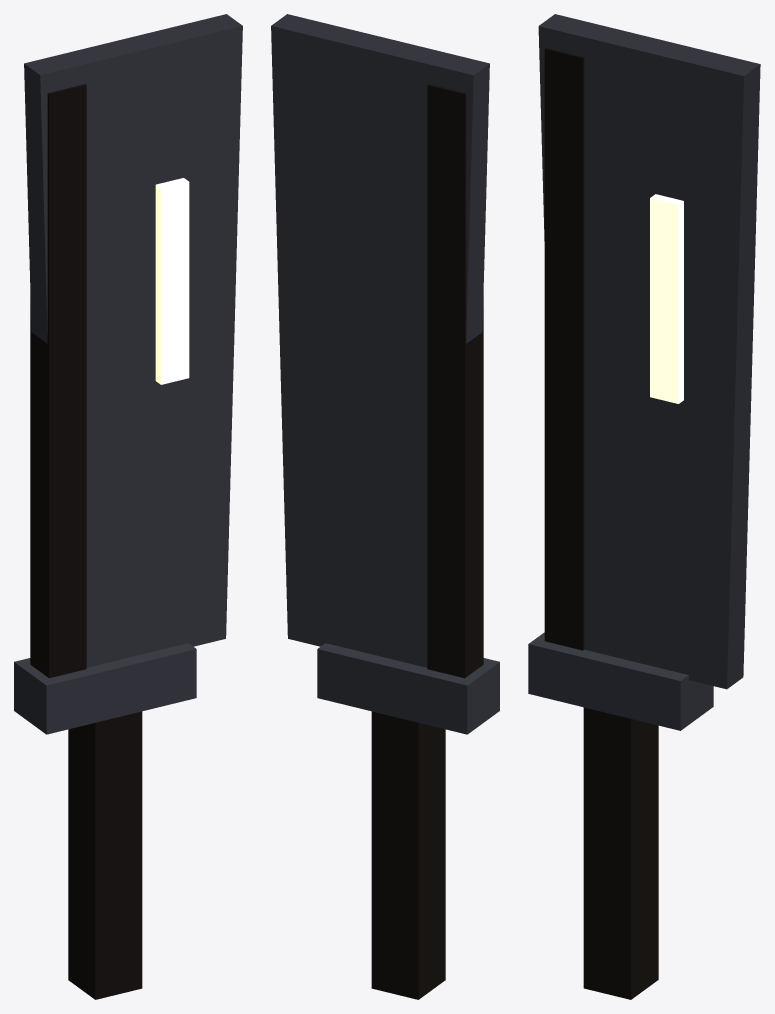
File: blackwood_cleaver.glb
3 views of the same model, side by side, from view 1: azimuth 30°, elevation 25°; view 2: azimuth 150°, elevation 25°; view 3: azimuth 330°, elevation 25° (orthographic).
Visible parts, largest first — view 1: BlackwoodCleaver; view 2: BlackwoodCleaver; view 3: BlackwoodCleaver.
Part boxes in pixels (left/top/right/bottom): BlackwoodCleaver: left=14, top=14, right=242, bottom=999; BlackwoodCleaver: left=271, top=14, right=499, bottom=999; BlackwoodCleaver: left=528, top=14, right=760, bottom=999.
Bounding box in the file's own units: 0.218 × 0.95 × 0.06.
